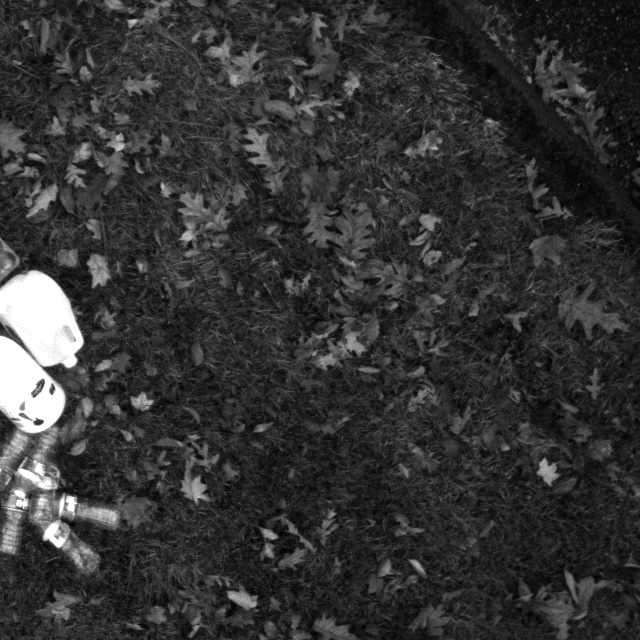bottle: (25, 504, 105, 576), (11, 423, 66, 503), (39, 490, 124, 533), (27, 459, 64, 527)
can: (0, 267, 90, 373), (0, 333, 72, 435)
